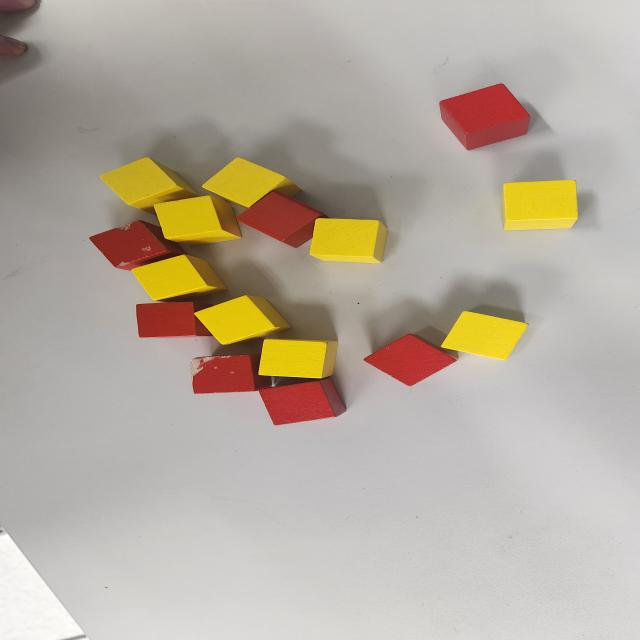broken: (89, 219, 187, 271), (190, 354, 274, 394)
red: (438, 83, 531, 151), (236, 191, 327, 249), (365, 333, 459, 387), (256, 378, 348, 426), (135, 302, 215, 338)
yellow: (99, 155, 199, 211), (202, 157, 304, 209), (195, 295, 292, 345), (153, 194, 243, 244), (440, 310, 529, 360), (131, 254, 227, 299), (501, 180, 579, 230), (308, 218, 388, 263), (257, 339, 338, 378)
